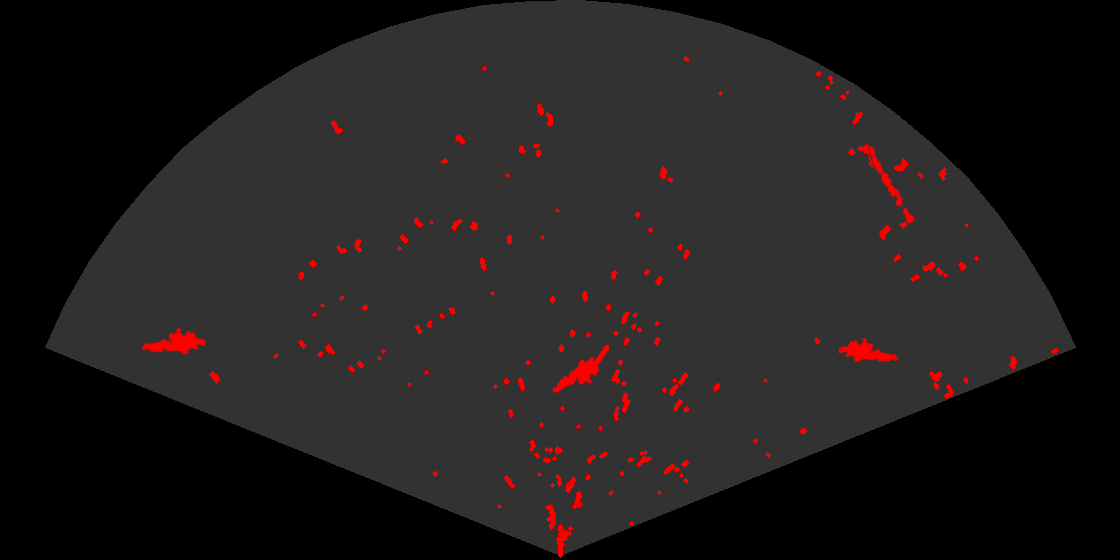chain: (867, 144, 920, 233)
frogman: (551, 345, 609, 395), (139, 326, 205, 356), (839, 336, 899, 364)
